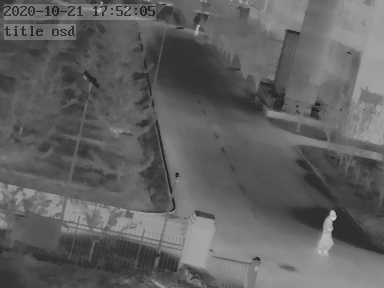person: (315, 209, 336, 257), (194, 22, 202, 38)
